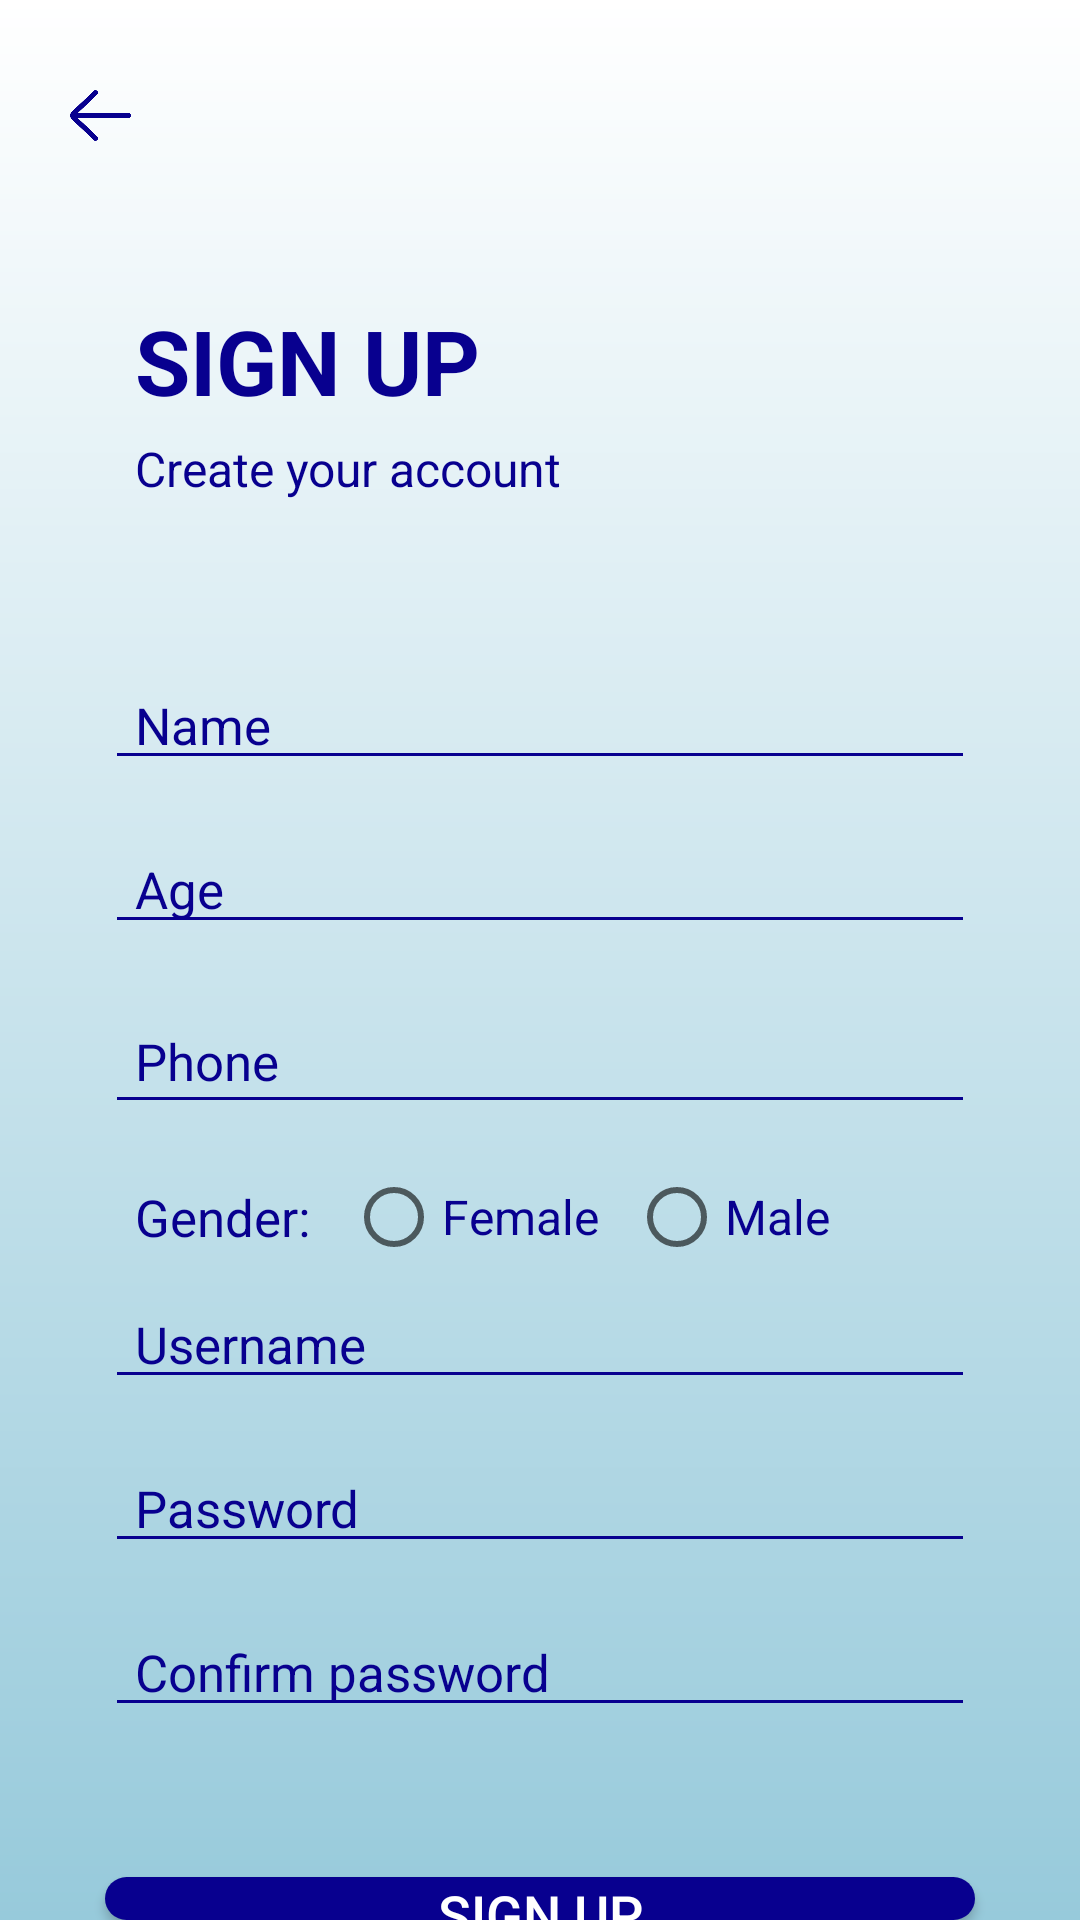

Named icons in this screenshot (1080*1920) and their centers, point (x, y):
back: point (100, 115)
